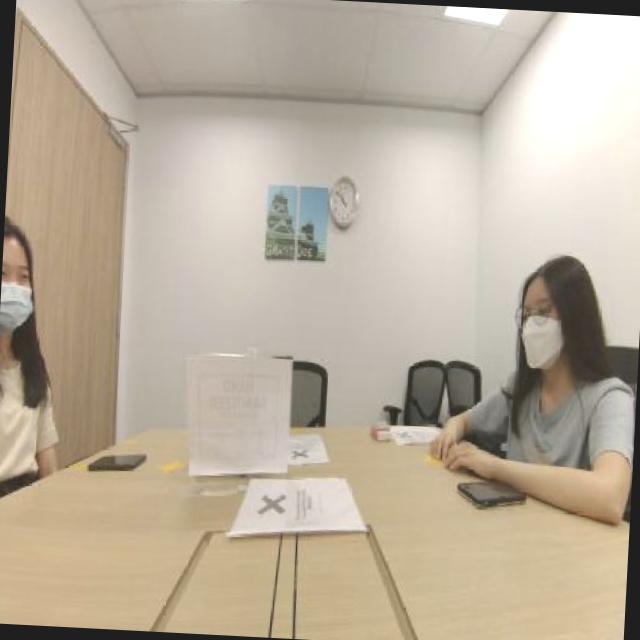Person: (499, 223, 626, 487), (0, 212, 71, 469)
